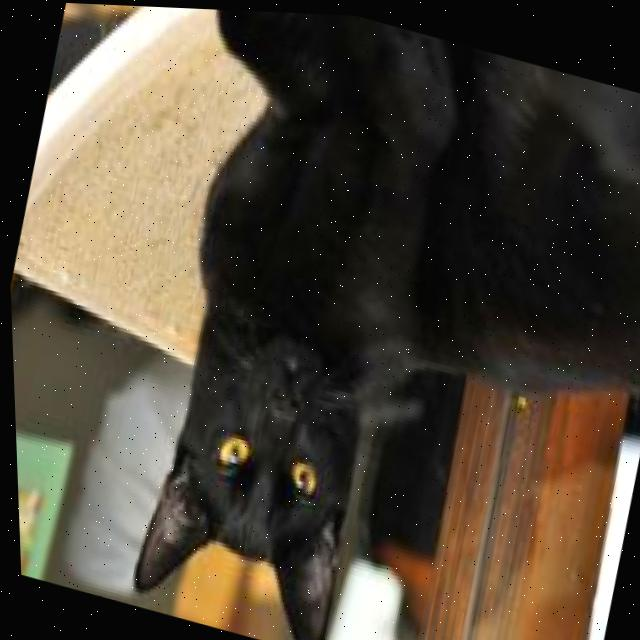Bombay: (70, 2, 640, 640)
